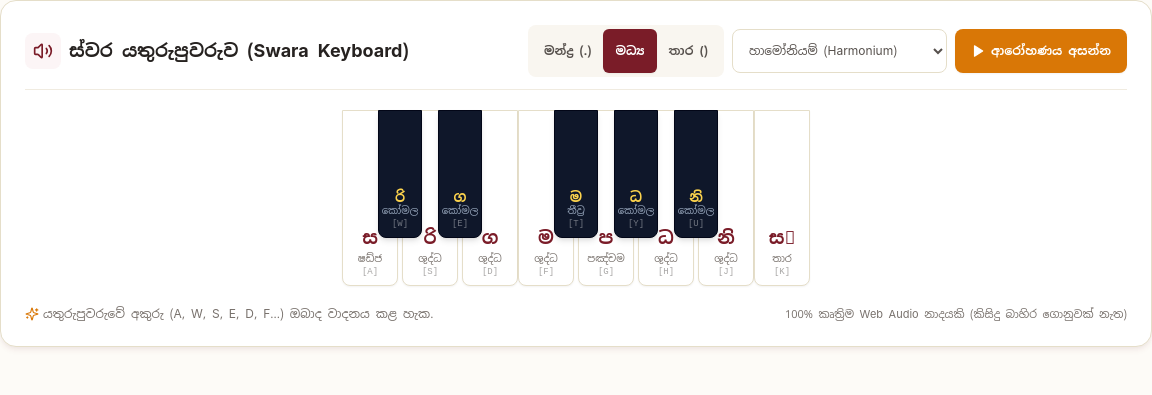
Test: Swara playback rejection consumers › contains a rejected keyboard direct-tone lifecycle
Click the button with aria-label "ස (ෂඩ්ජ) ස්වරය". click: point(370, 198)
box: [342,110,398,286]
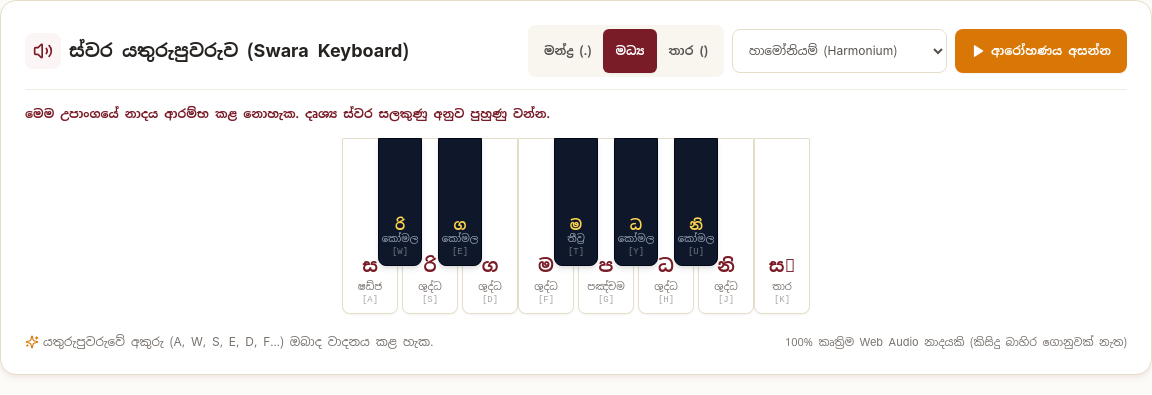
Expected: the message shows "නාදය ආරම්භ කළ නොහැක", [25,106,550,122]
